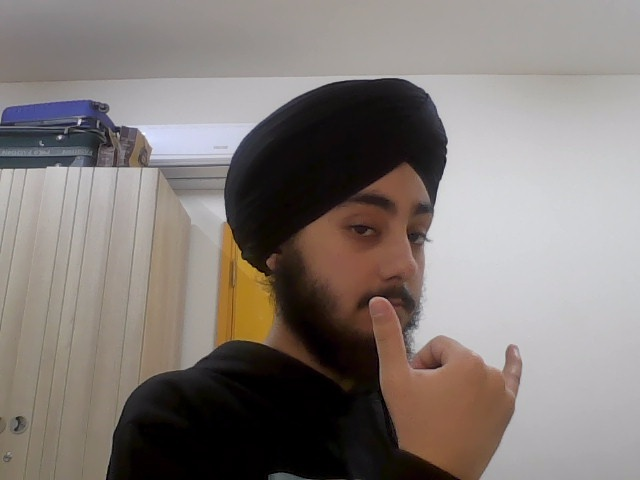Wrong: (363, 297, 538, 480)
